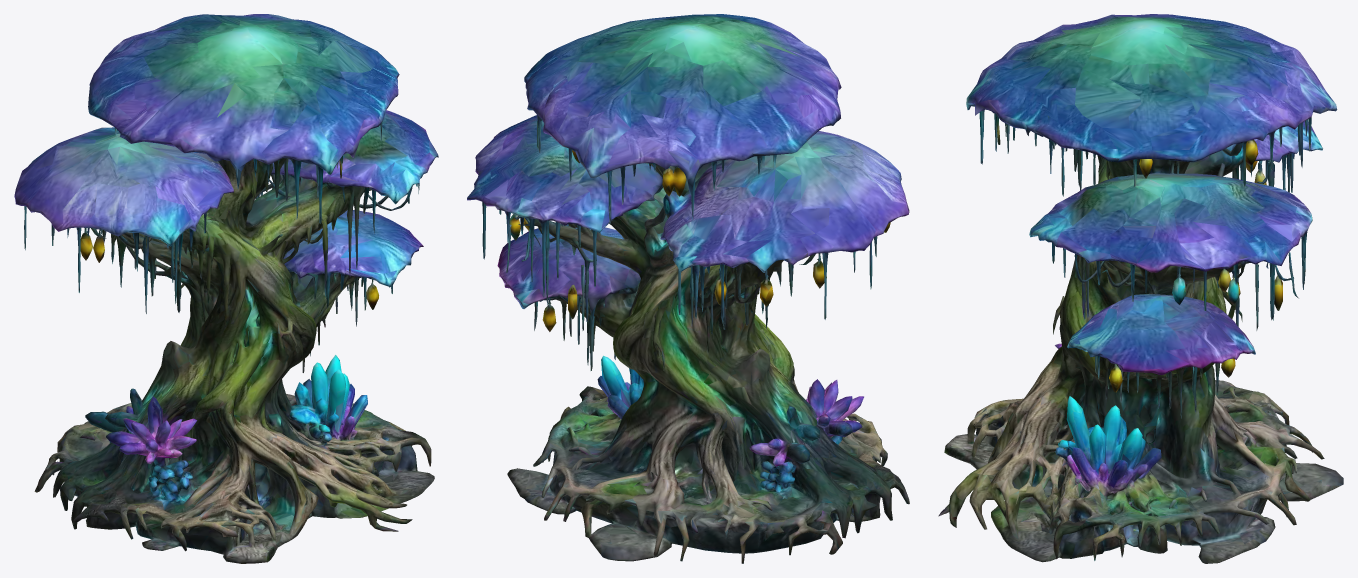
File: Luminous_Crystalline_.glb
3 views of the same model, side by side, from view 1: azimuth 30°, elevation 25°; view 2: azimuth 150°, elevation 25°; view 3: azimuth 270°, elevation 25° (orthographic). The views are drawn at different scales.
Visible parts, largest first — view 1: Luminous_Crystalline_; view 2: Luminous_Crystalline_; view 3: Luminous_Crystalline_.
Part boxes in pixels (x1,y1,x2,y2): Luminous_Crystalline_: [14, 14, 438, 563]; Luminous_Crystalline_: [467, 14, 909, 563]; Luminous_Crystalline_: [938, 14, 1343, 563].
Bounding box in the file's own units: 1.74 × 1.9 × 1.51.
Materials: 1 (1 with a texture image).
